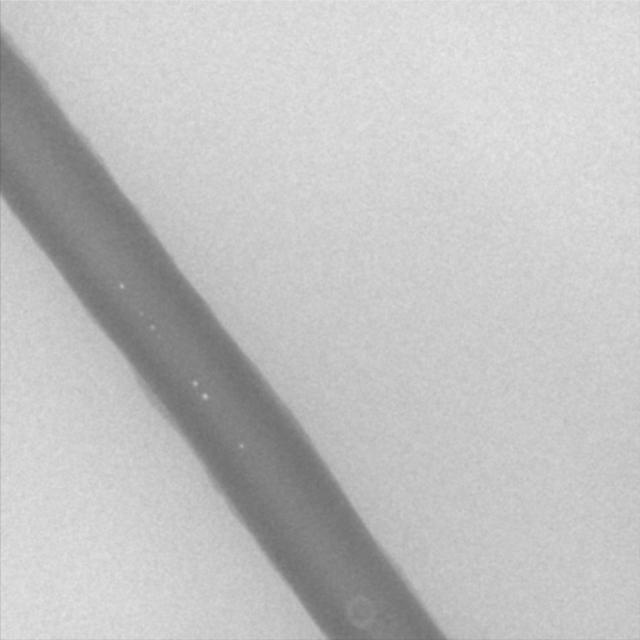air hole: (148, 322, 156, 332), (117, 281, 125, 290), (191, 379, 199, 388), (201, 392, 208, 402), (237, 440, 244, 450)
hollow bead: (344, 593, 377, 630)
